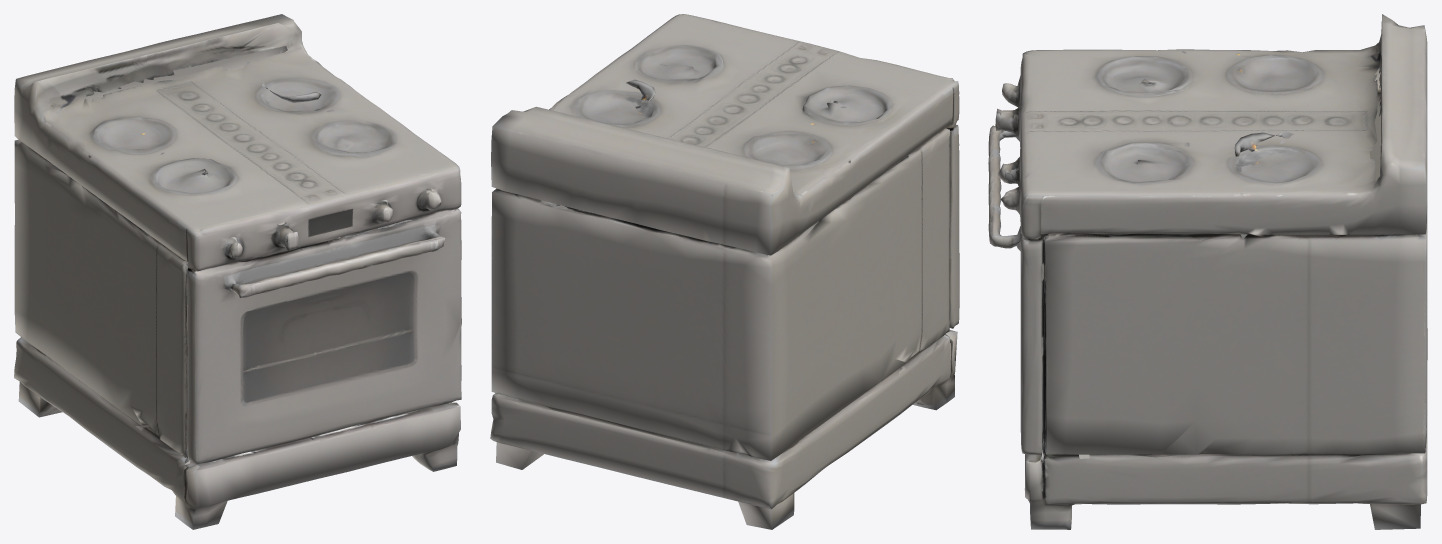
The model's file is stove.glb.
3 renders of one model, left to right at view 1: azimuth 30°, elevation 25°; view 2: azimuth 150°, elevation 25°; view 3: azimuth 270°, elevation 25°, orthographic. The views are drawn at different scales.
Size of the model in its own units: 1.59 by 1.87 by 2.
Materials: 1 (1 with a texture image).
